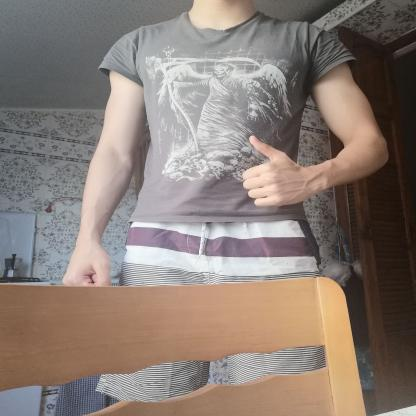ALIF: (228, 125, 327, 216)
